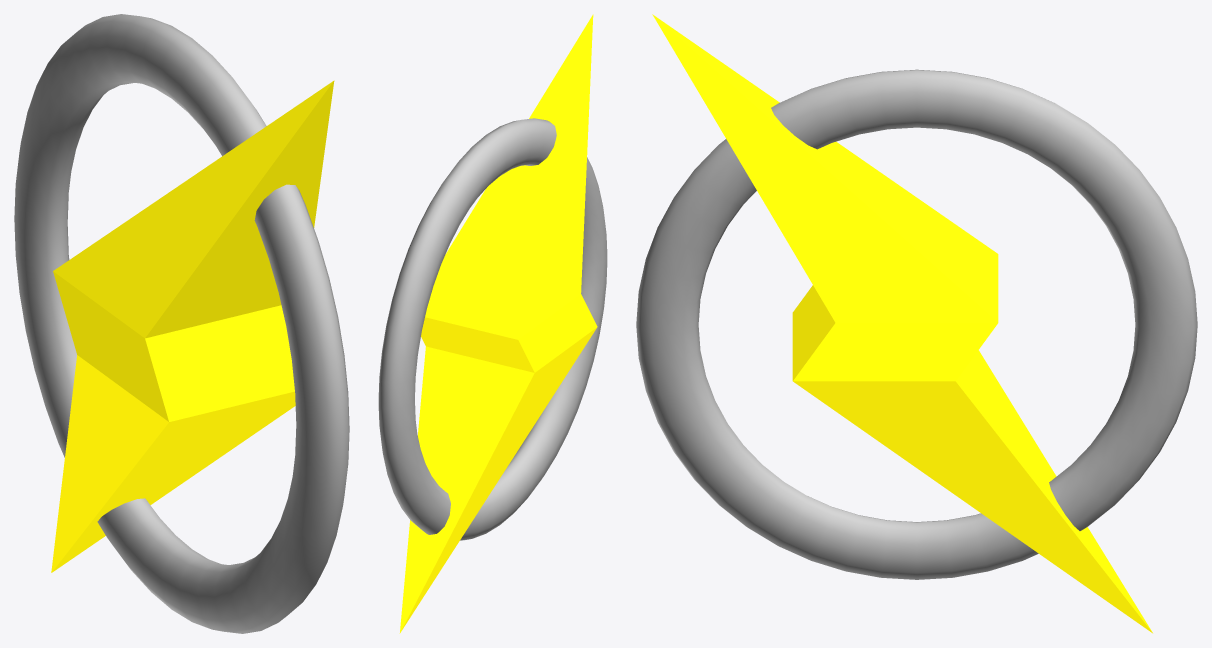
Rendered from PowerupFBX.fbx.
3 views of the same model, side by side, from view 1: azimuth 30°, elevation 25°; view 2: azimuth 150°, elevation 25°; view 3: azimuth 270°, elevation 25° (orthographic). The views are drawn at different scales.
Parts seen in each view (by area): view 1: Cube, Cylinder; view 2: Cube, Cylinder; view 3: Cylinder, Cube.
Boxes of the visible parts, x1,y1,x2,y2 form: Cube: [51, 80, 334, 572]; Cylinder: [14, 14, 349, 633]; Cube: [399, 14, 597, 633]; Cylinder: [378, 118, 607, 540]; Cylinder: [636, 69, 1197, 579]; Cube: [652, 14, 1152, 633].
Size of the model in its own units: 0.6859 by 2.88 by 2.36.
